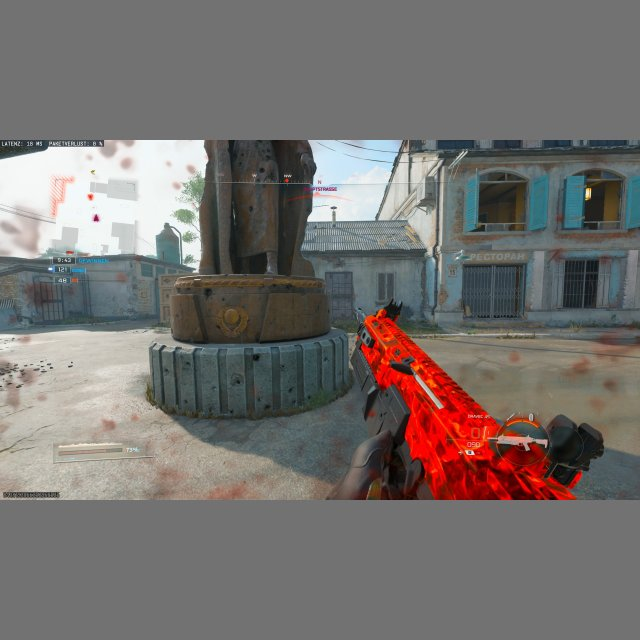player: (353, 307, 364, 320)
